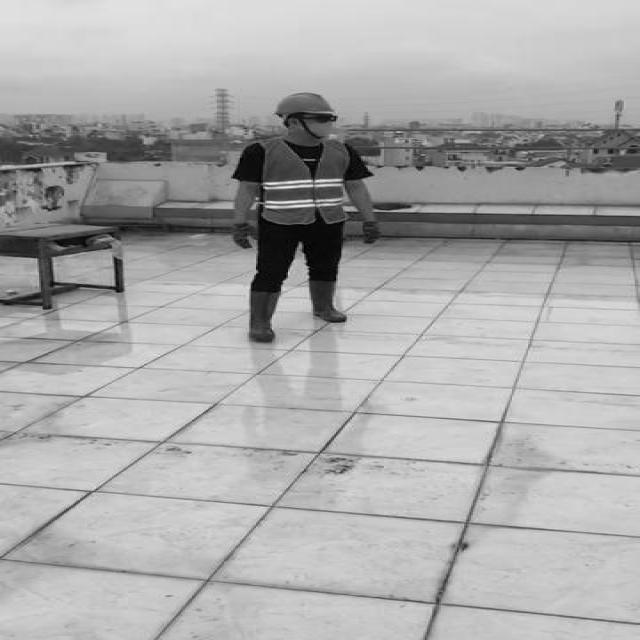boots: (247, 290, 285, 343), (309, 280, 345, 321)
face_mask: (304, 113, 340, 136)
glasses: (303, 110, 342, 125)
hand_glove: (228, 224, 260, 250), (358, 218, 380, 244)
head_helmet: (271, 90, 337, 116)
person: (220, 95, 388, 348)
vest: (258, 139, 352, 223)
